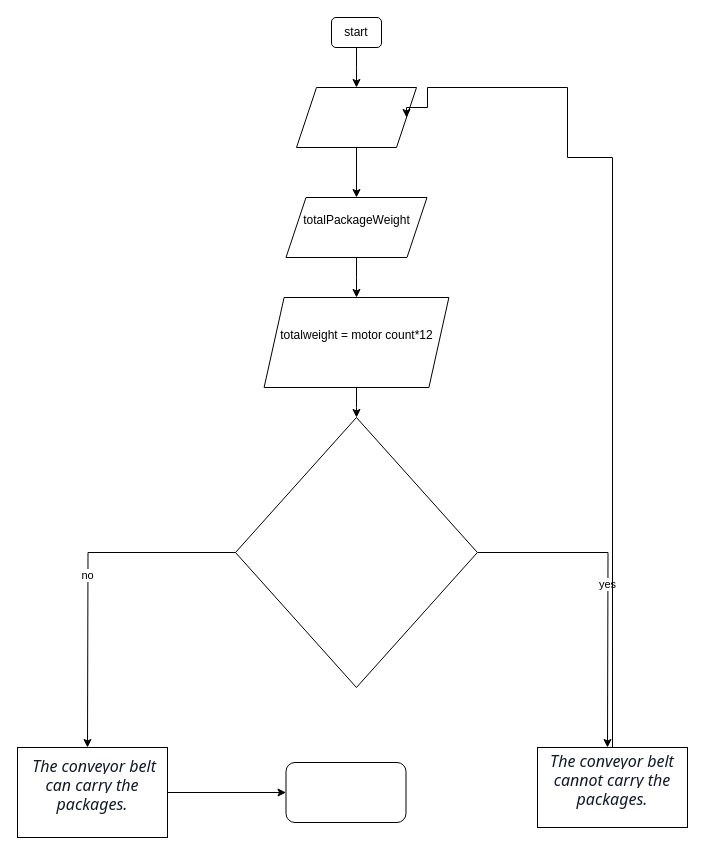
The diagram is 705 pixels wide and 860 high, and some of its shapes have lost their labels. The shapes that lost their labels are listed below. From the top down, each one's box as (x1, y1, x2, y2) in pixels, then its label:
(296, 86, 416, 148): motorcout
(234, 416, 477, 688): is the totalPackageWeight<=totalweight?
(285, 762, 406, 822): end
